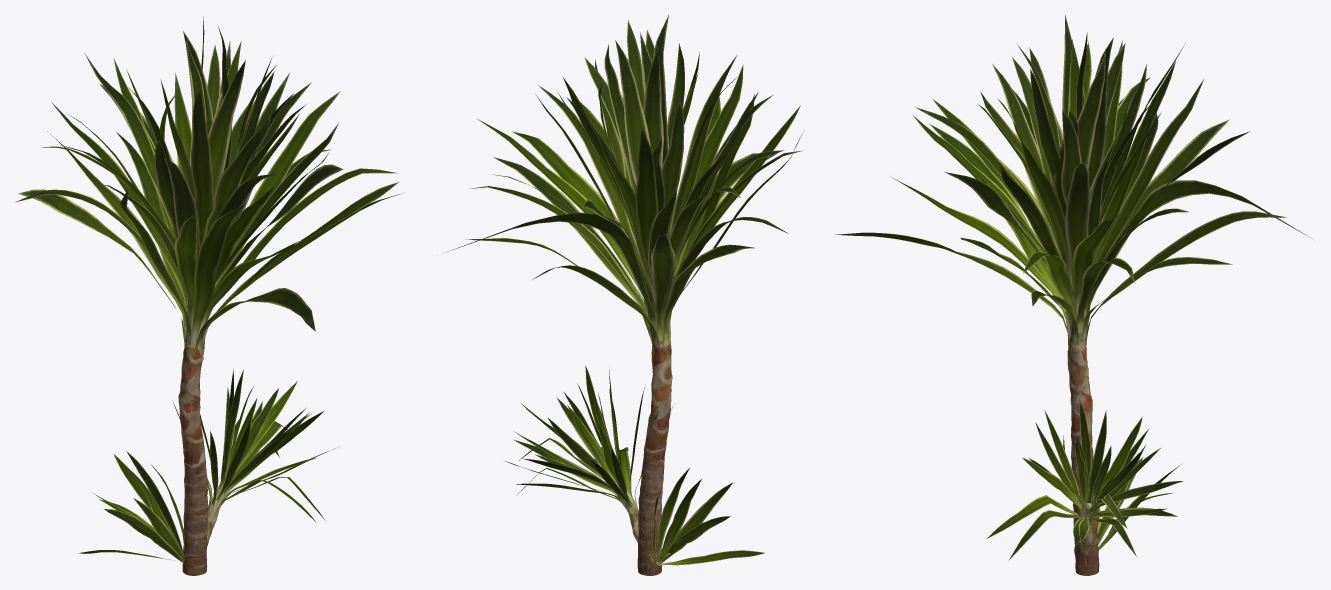
Rendered from background_plant_4.glb.
The picture shows the model from 3 angles, left to right: view 1: azimuth 30°, elevation 25°; view 2: azimuth 150°, elevation 25°; view 3: azimuth 270°, elevation 25°; orthographic projection.
Parts seen in each view (by area): view 1: _1jjn_Var8_LOD1; view 2: _1jjn_Var8_LOD1; view 3: _1jjn_Var8_LOD1.
Part boxes in pixels (x1,y1,x2,y2): _1jjn_Var8_LOD1: (15,16,402,575); _1jjn_Var8_LOD1: (443,15,803,575); _1jjn_Var8_LOD1: (835,14,1311,575).
Bounding box in the file's own units: 19.7 × 29.42 × 23.55.
1 material, 1 textured.
